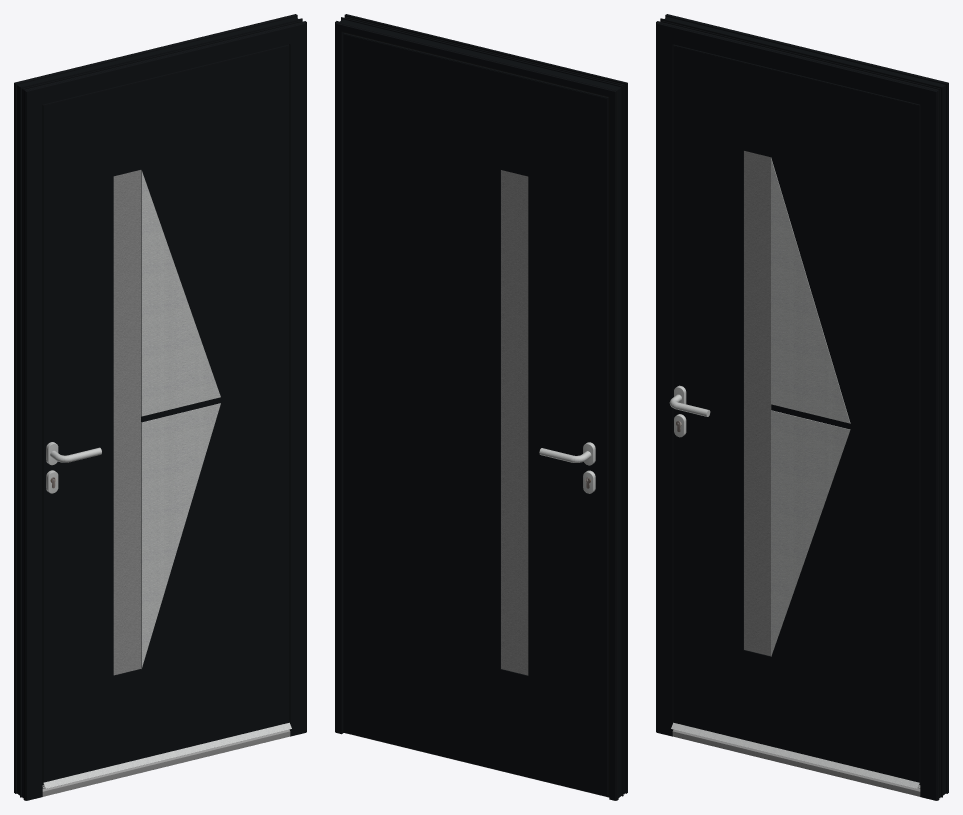
3 renders of one model, left to right at view 1: azimuth 30°, elevation 25°; view 2: azimuth 150°, elevation 25°; view 3: azimuth 330°, elevation 25°, orthographic.
Visible parts, largest first — view 1: bloco_52, aroFixo, alunox_33, Plane001, aroMovel, rodapé, escovas, puxador001; view 2: bloco_52, aroFixo, Plane002, aroMovel, puxador; view 3: bloco_52, aroFixo, alunox_33, Plane001, aroMovel, rodapé, escovas, puxador001.
Boxes of the visible parts, <box> form: bloco_52: <box>44,46,289,782</box>; aroFixo: <box>14,14,306,800</box>; alunox_33: <box>141,170,220,668</box>; Plane001: <box>113,170,140,675</box>; aroMovel: <box>42,44,289,784</box>; rodapé: <box>42,729,290,796</box>; escovas: <box>42,722,291,788</box>; puxador001: <box>46,442,101,493</box>; bloco_52: <box>343,34,607,796</box>; aroFixo: <box>335,14,627,800</box>; Plane002: <box>501,170,528,675</box>; aroMovel: <box>343,32,609,796</box>; puxador: <box>539,442,595,493</box>; bloco_52: <box>674,46,918,782</box>; aroFixo: <box>656,14,948,800</box>; alunox_33: <box>771,157,850,656</box>; Plane001: <box>744,151,771,656</box>; aroMovel: <box>673,44,920,784</box>; rodapé: <box>672,729,920,796</box>; escovas: <box>671,722,920,788</box>; puxador001: <box>669,385,710,437</box>.
Bounding box in the file's own units: 900 × 2165 × 209.
7 materials, 3 textured.
